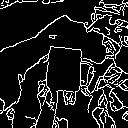cube: (40, 40, 96, 95)
